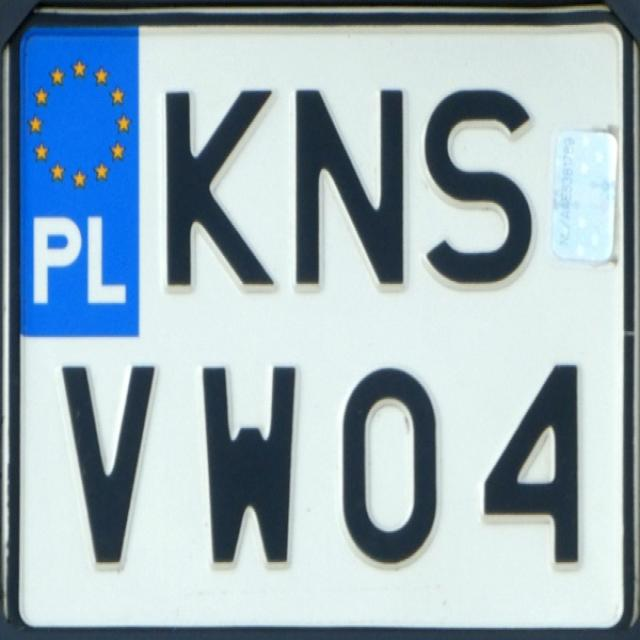pl_license_plate: (19, 25, 624, 627)
